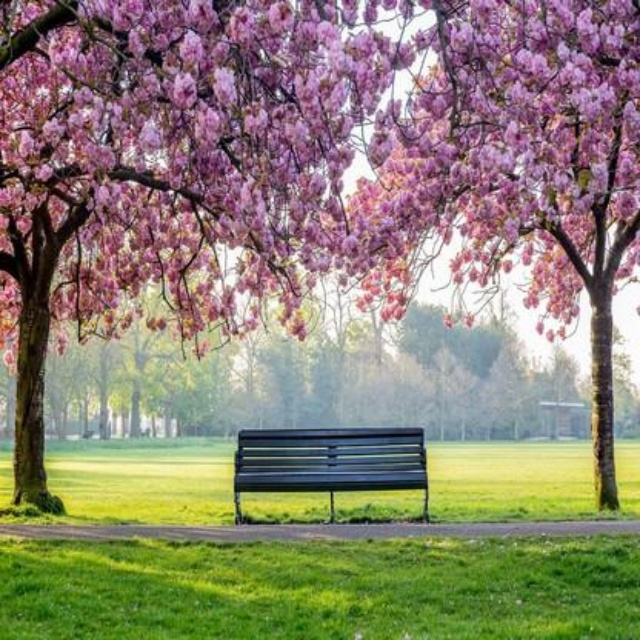obstacle: (222, 418, 451, 534)
